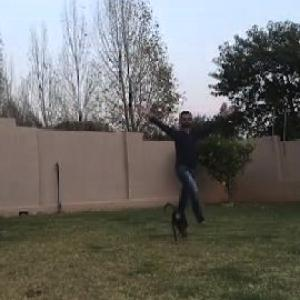takeoff: (108, 98, 211, 228)
